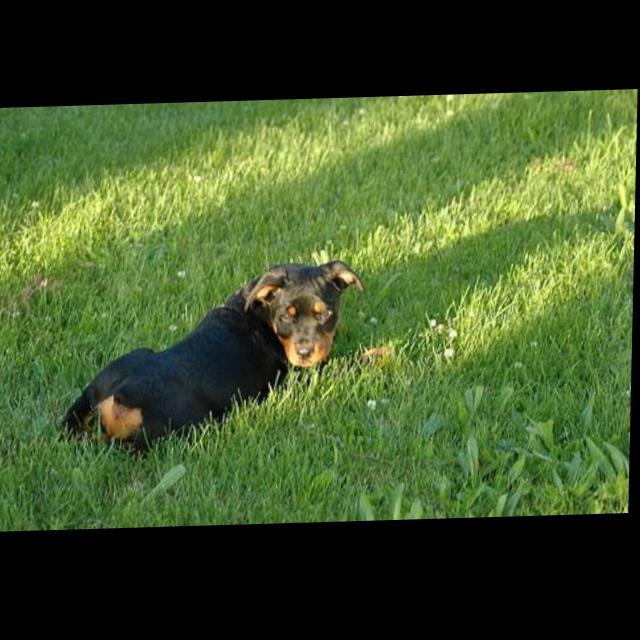rottweiler: (62, 261, 369, 459)
